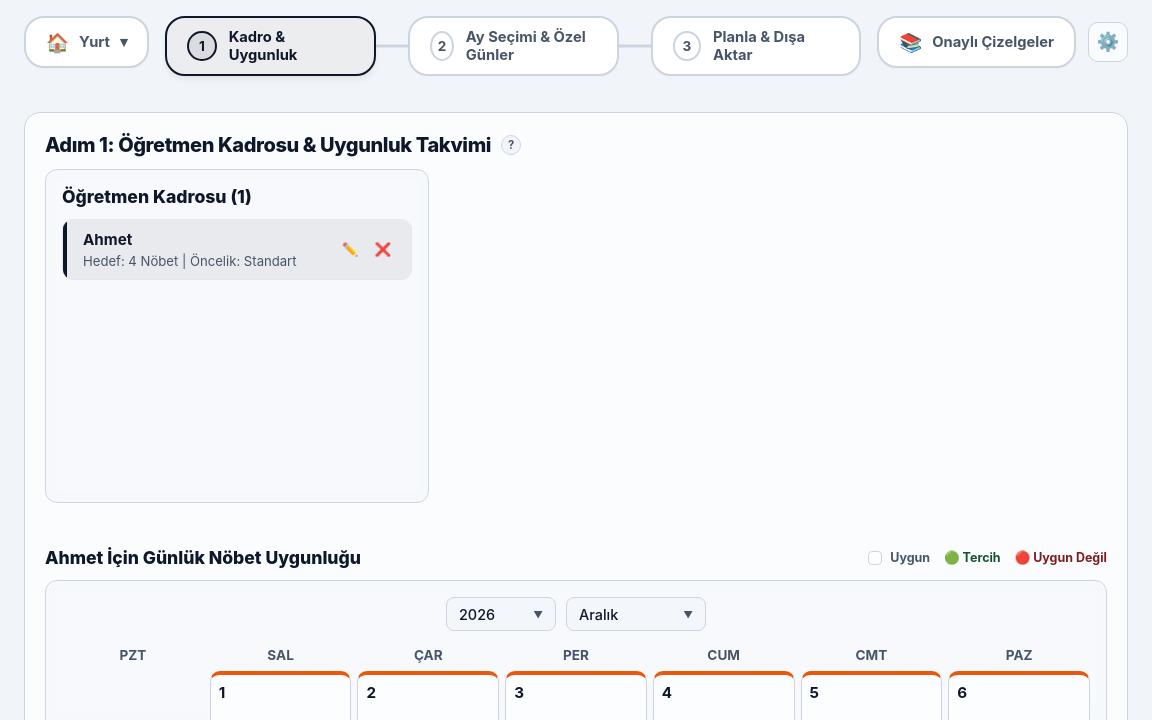
Test case: the approved schedules drawer › lists approved schedules and finds them by month name, ignoring Turkish marks
Expected: the text "Adım 1: Öğretmen Kadrosu & Uygunluk Takvimi" is shown, left=45, top=133, right=491, bottom=157
Step 1. Click the button "📚 Onaylı Çizelgeler" → (977, 42), box left=877, top=16, right=1076, bottom=68
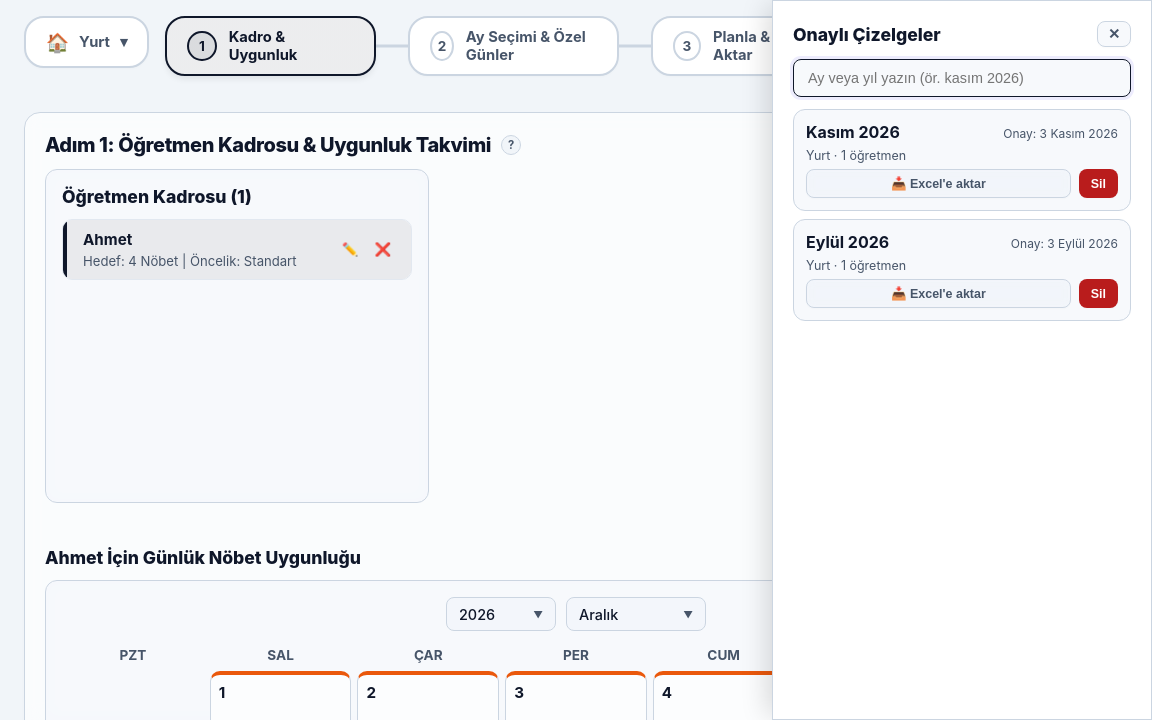
Result: the text "Kasım 2026" is shown at left=806, top=122, right=900, bottom=142
Result: the text "Eylül 2026" is shown at left=806, top=232, right=889, bottom=252
Step 2. Type "kasim" into the search field named "Onaylı çizelge ara" → (962, 78), box left=793, top=59, right=1131, bottom=97
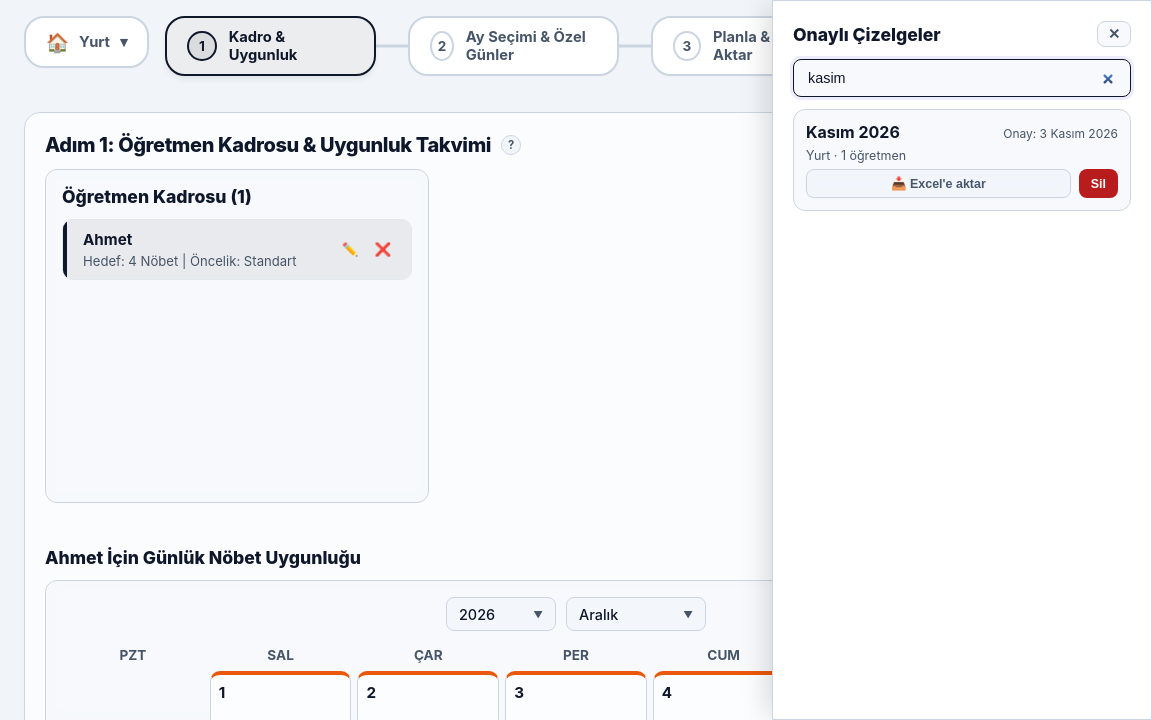
Result: the text "Kasım 2026" is shown at left=806, top=122, right=900, bottom=142
Result: the text "Eylül 2026" is gone
